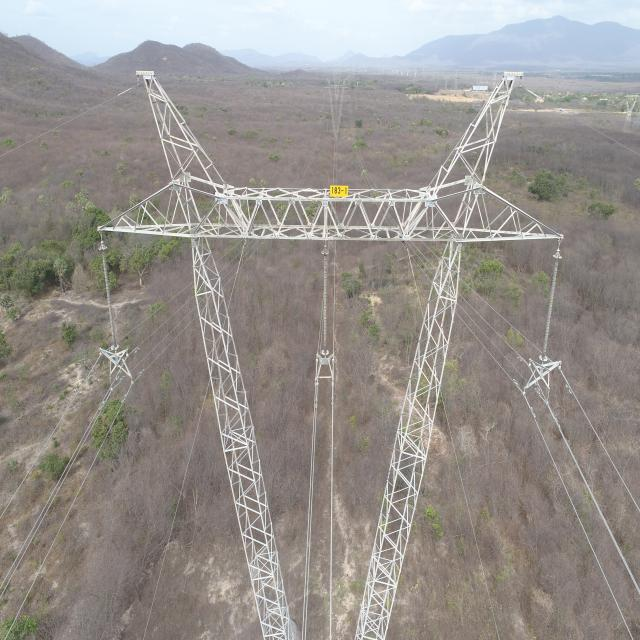杆塔: (108, 64, 567, 634)
正常电缆: (4, 383, 134, 638), (523, 399, 638, 640), (1, 391, 112, 600), (0, 389, 110, 591), (142, 378, 211, 639), (547, 404, 640, 594), (0, 355, 102, 522), (441, 397, 502, 640), (559, 368, 640, 514), (2, 79, 139, 163), (458, 315, 523, 394), (464, 280, 535, 348), (462, 295, 527, 365), (461, 306, 522, 378), (301, 380, 317, 640), (132, 306, 196, 369), (122, 282, 191, 340), (136, 316, 197, 380), (130, 296, 193, 354), (328, 247, 336, 639), (304, 408, 317, 640)
正常绝缘子: (534, 249, 567, 366), (98, 241, 120, 351), (321, 247, 330, 357)
